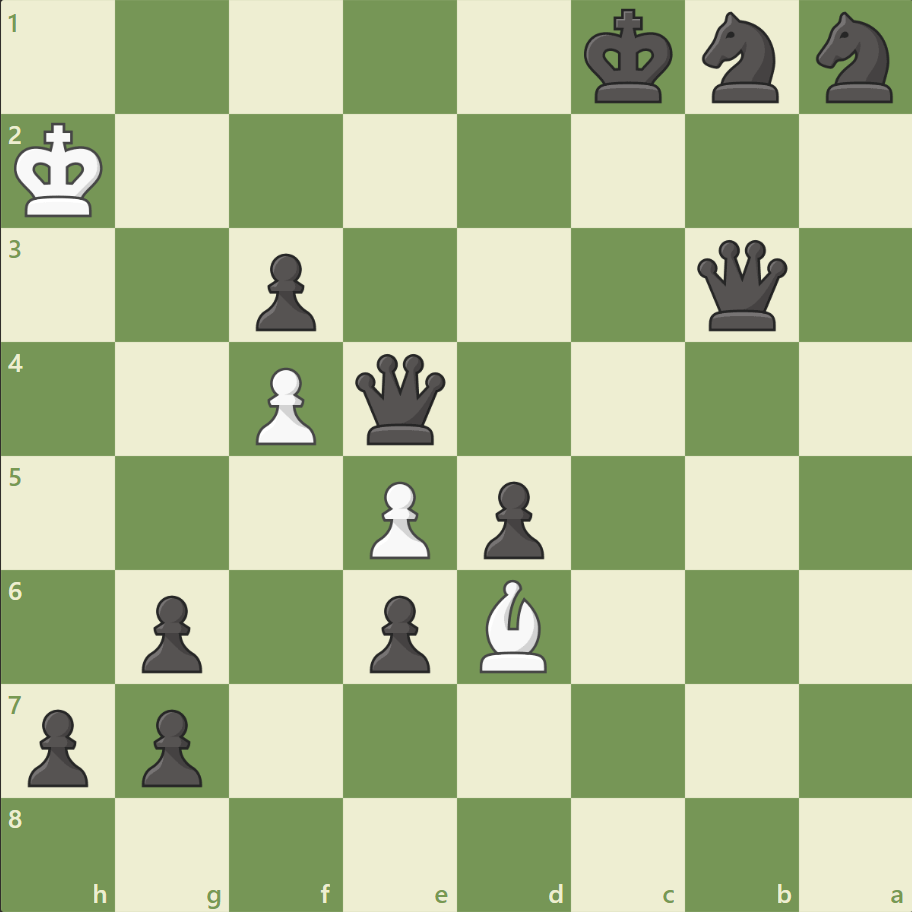B: (471, 574, 555, 676)
K: (11, 117, 111, 225)
P: (247, 359, 322, 450), (361, 473, 435, 564)
k: (579, 4, 679, 112)
n: (806, 7, 903, 110), (692, 7, 789, 110)
p: (133, 700, 208, 791), (20, 700, 95, 791), (133, 586, 208, 677), (474, 473, 549, 564), (247, 246, 322, 337), (361, 586, 435, 677)
q: (351, 349, 450, 449), (691, 236, 790, 335)
